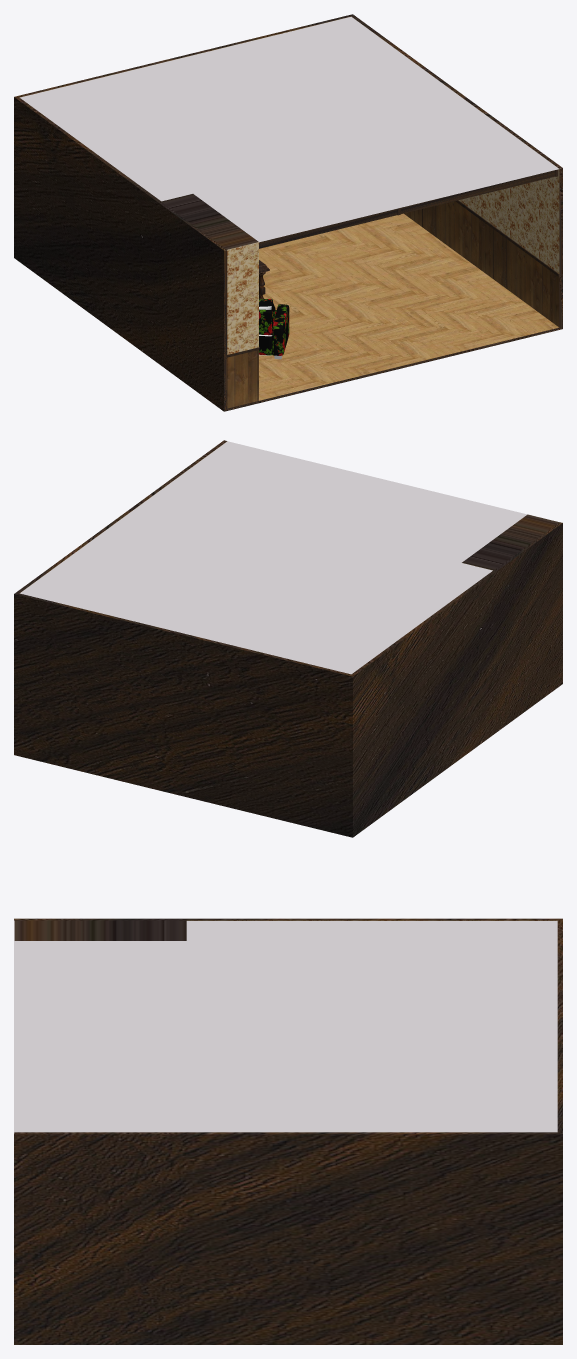
File: stranger_things_room.glb
3 views of the same model, one above another, from view 1: azimuth 30°, elevation 25°; view 2: azimuth 150°, elevation 25°; view 3: azimuth 270°, elevation 25° (orthographic). The views are drawn at different scales.
Parts seen in each view (by area): view 1: ceiling_130, walls_131, floor_129, ceiling_planks_133, RFP_Armchair_2_Material #2146946856_0_47; view 2: walls_131, ceiling_130; view 3: walls_131, ceiling_130.
Part boxes in pixels (left/top/right/bottom): ceiling_130: left=20, top=16, right=560, bottom=249; walls_131: left=14, top=14, right=562, bottom=411; floor_129: left=259, top=213, right=558, bottom=400; ceiling_planks_133: left=259, top=169, right=558, bottom=248; RFP_Armchair_2_Material #2146946856_0_47: left=259, top=299, right=289, bottom=359; walls_131: left=14, top=440, right=562, bottom=837; ceiling_130: left=20, top=441, right=527, bottom=674; walls_131: left=14, top=918, right=562, bottom=1344; ceiling_130: left=14, top=920, right=557, bottom=1133.
Size of the model in its own units: 4.4 by 2.52 by 4.73.
Materials: 27 (14 with a texture image).
